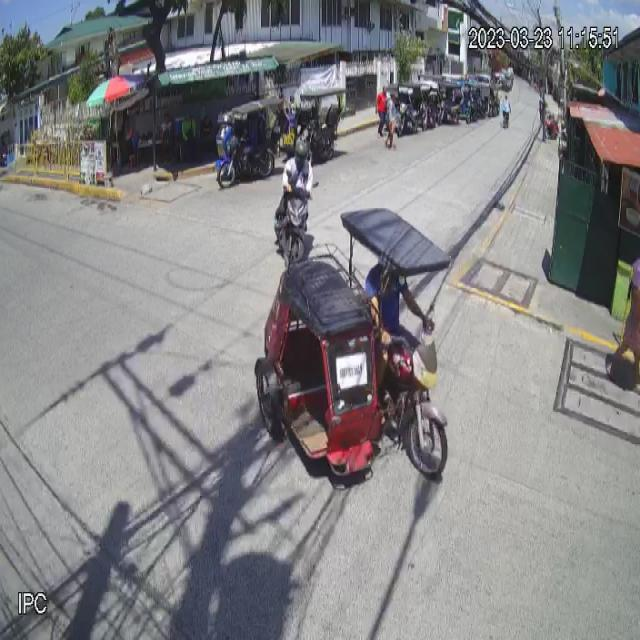Motorcycle: (275, 169, 319, 261)
Tricycle: (254, 206, 452, 482)
